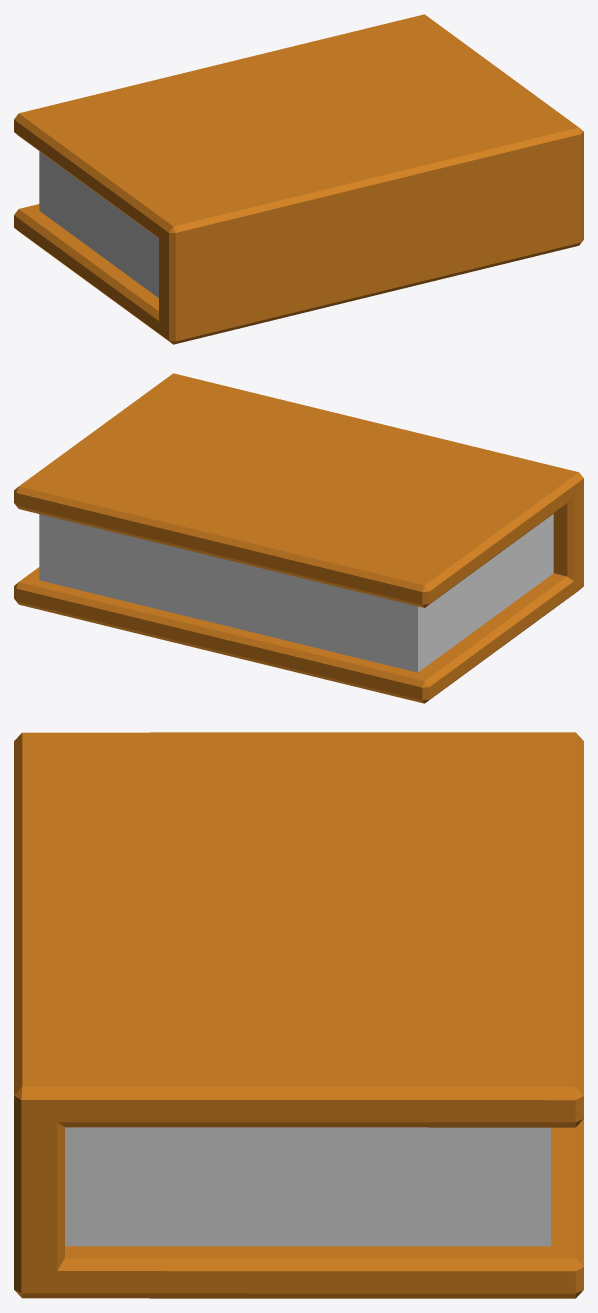
The model's file is orange_book.fbx.
3 views of the same model, one above another, from view 1: azimuth 30°, elevation 25°; view 2: azimuth 150°, elevation 25°; view 3: azimuth 270°, elevation 25° (orthographic). The views are drawn at different scales.
Visible parts, largest first — view 1: Purple_book.002; view 2: Purple_book.002; view 3: Purple_book.002.
Part boxes in pixels (box(x1,y1,x2,y2)): Purple_book.002: box(14, 14, 583, 344); Purple_book.002: box(14, 373, 583, 703); Purple_book.002: box(14, 732, 583, 1298).
Size of the model in its own units: 0.8917 by 0.5921 by 0.2425.
